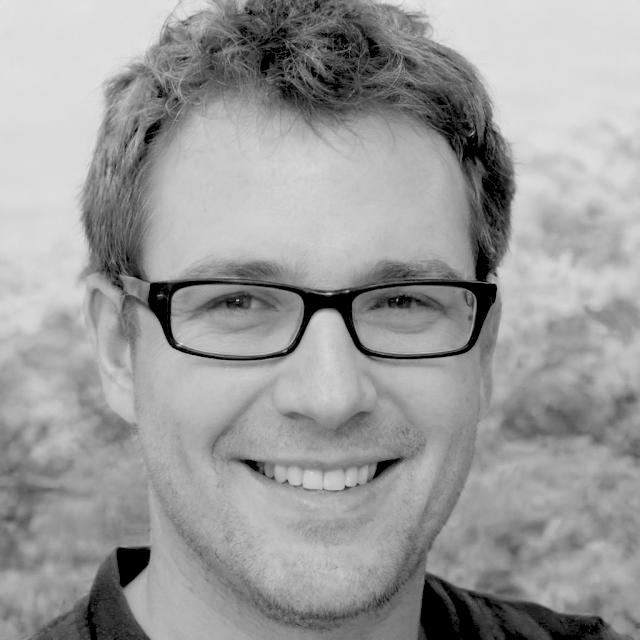lens: (171, 285, 304, 354), (352, 286, 477, 354)
